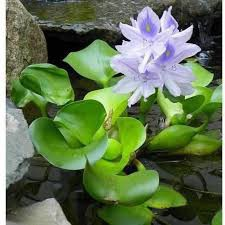water_hyacinth: (10, 6, 223, 215)
